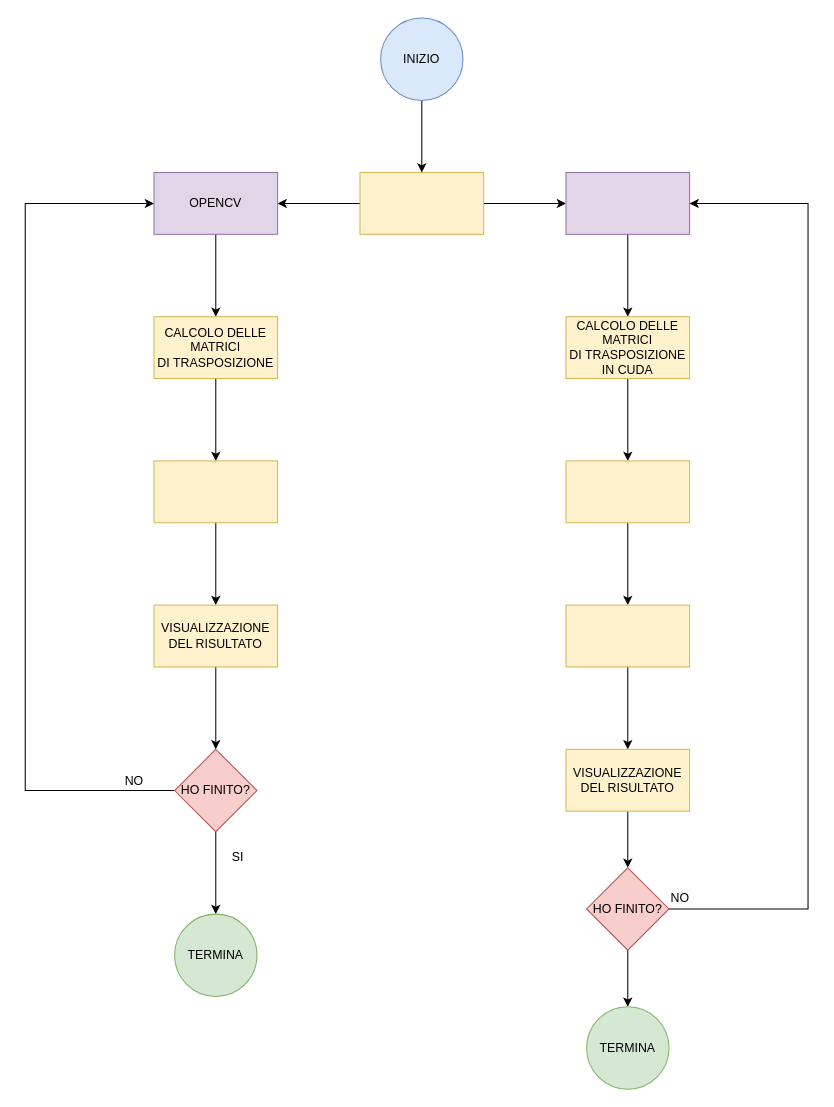
This 834x1107 diagram has some shape labels left out. The shapes that lost their labels are listed below. From the top down, each one's box as (x1, y1, x2, y2) in pixels, then its label:
(359, 171, 484, 234): SCELTA TIPO DI ALGORITMO
(565, 171, 690, 234): CUDA
(153, 460, 278, 523): RICHIAMO DELLE FUNZIONI DI OPENCV
(565, 460, 690, 523): CALCOLO DEL VETTORE DI RIPROIEZIONE IN CUDA
(565, 604, 690, 667): RIPROIEZIONE DEI PIXEL IN CUDA
